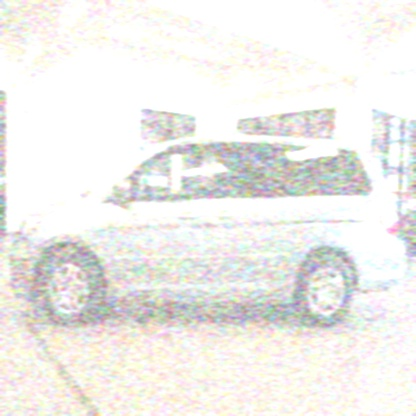Vehicle: (6, 131, 407, 332)
